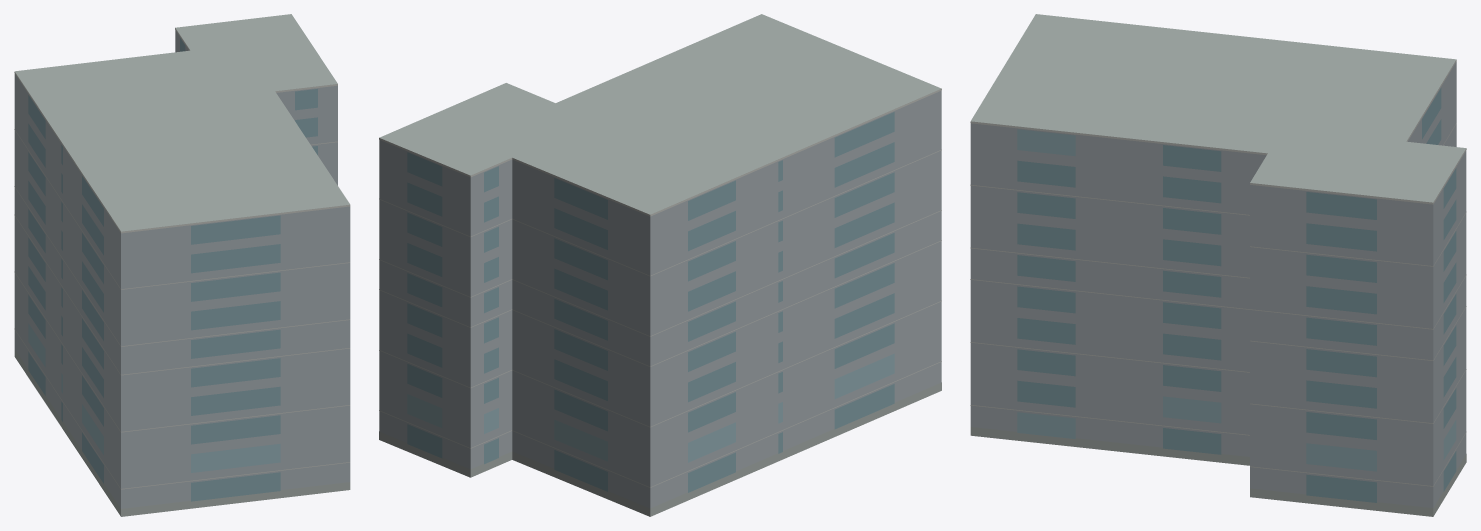
The model's file is survey-upis-32746146.glb.
The picture shows the model from 3 angles, left to right: view 1: azimuth 30°, elevation 25°; view 2: azimuth 150°, elevation 25°; view 3: azimuth 270°, elevation 25°; orthographic projection. The views are drawn at different scales.
Visible parts, largest first — view 1: survey-upis-32746146.tmp; view 2: survey-upis-32746146.tmp; view 3: survey-upis-32746146.tmp.
Part boxes in pixels (left/top/right/bottom): survey-upis-32746146.tmp: left=14, top=14, right=350, bottom=516; survey-upis-32746146.tmp: left=379, top=14, right=941, bottom=516; survey-upis-32746146.tmp: left=970, top=14, right=1466, bottom=516.
Size of the model in its own units: 49.89 by 38.75 by 55.44.
